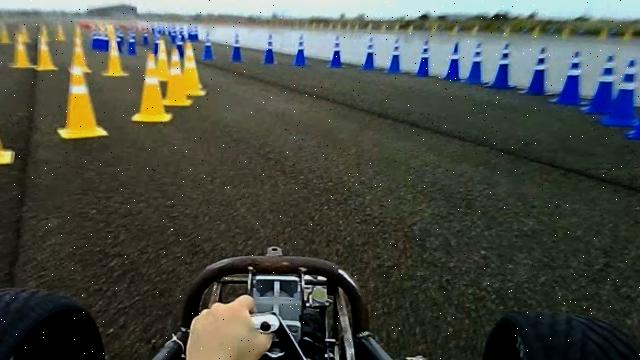blue cone: (599, 60, 640, 128), (581, 55, 617, 114), (549, 51, 587, 105), (484, 42, 518, 90), (521, 46, 551, 96)
yellow cone: (57, 66, 109, 139), (131, 56, 167, 124), (0, 64, 16, 167), (161, 48, 188, 108), (183, 40, 207, 96), (170, 48, 182, 75)
